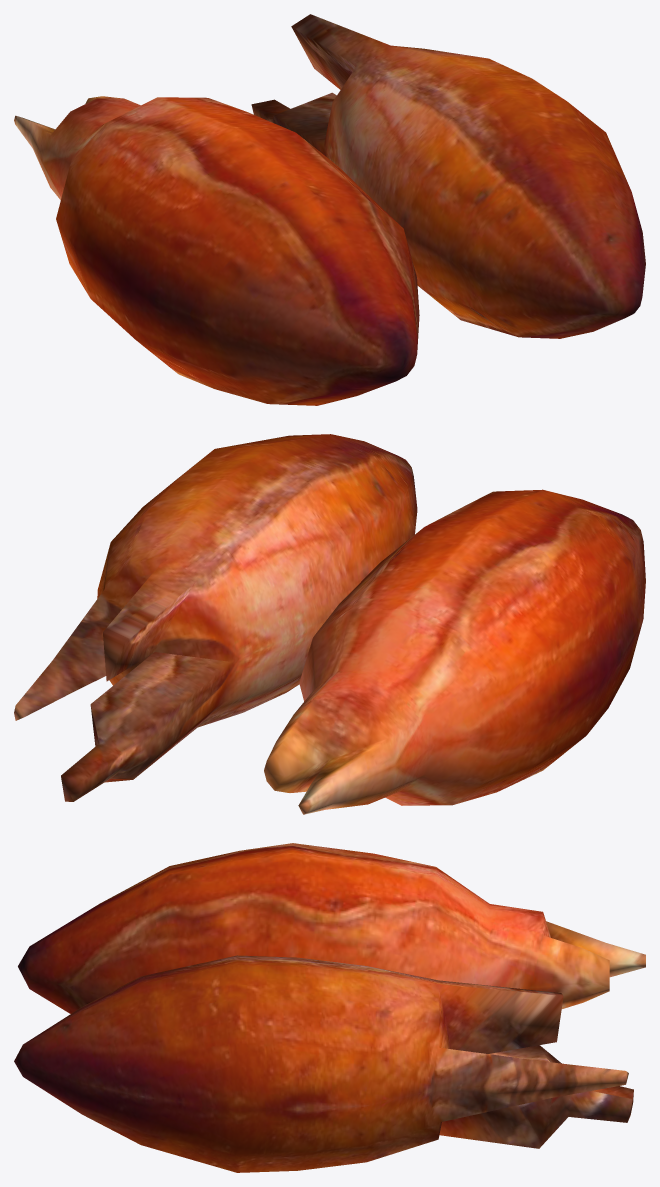
The model's file is zxhizi.FBX.
3 views of the same model, one above another, from view 1: azimuth 30°, elevation 25°; view 2: azimuth 150°, elevation 25°; view 3: azimuth 270°, elevation 25° (orthographic). The views are drawn at different scales.
Parts seen in each view (by area): view 1: Cylinder001, Cylinder002; view 2: Cylinder001, Cylinder002; view 3: Cylinder002, Cylinder001.
Boxes of the visible parts, box(x1,y1,x2,y2) form: Cylinder001: box(14, 96, 419, 405); Cylinder002: box(251, 14, 645, 338); Cylinder001: box(264, 489, 645, 814); Cylinder002: box(14, 434, 417, 801); Cylinder002: box(14, 955, 633, 1172); Cylinder001: box(18, 843, 645, 1013).
Size of the model in its own units: 14.55 by 7.29 by 19.11.
Materials: 1 (1 with a texture image).
